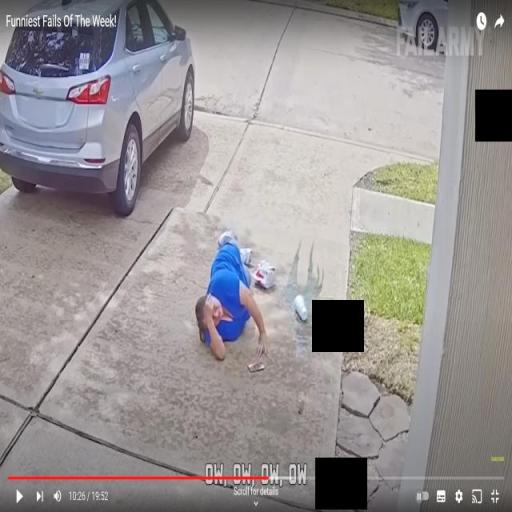Fall: (193, 224, 270, 365)
